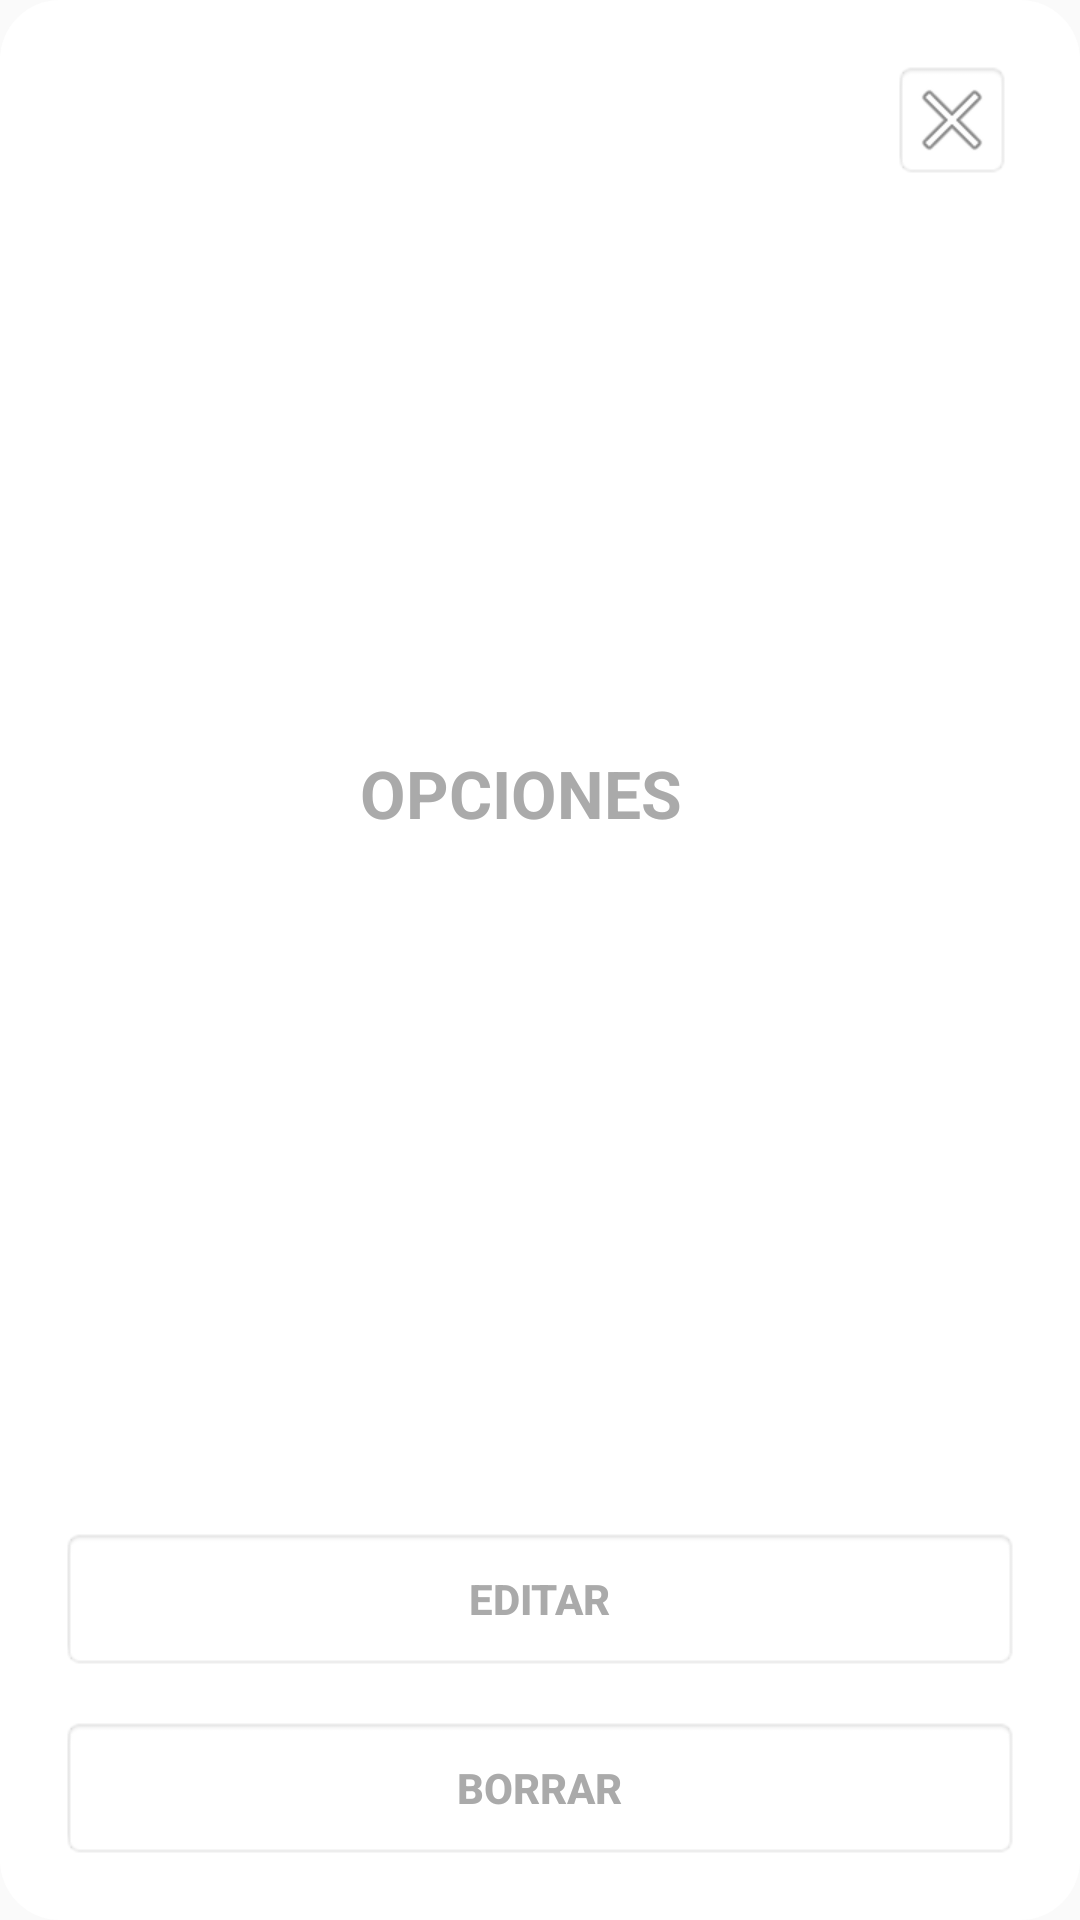

Where to tap for icons on this 1080x1920 app screen, as (x=x, y=y):
close clear cancel: (x=952, y=120)
